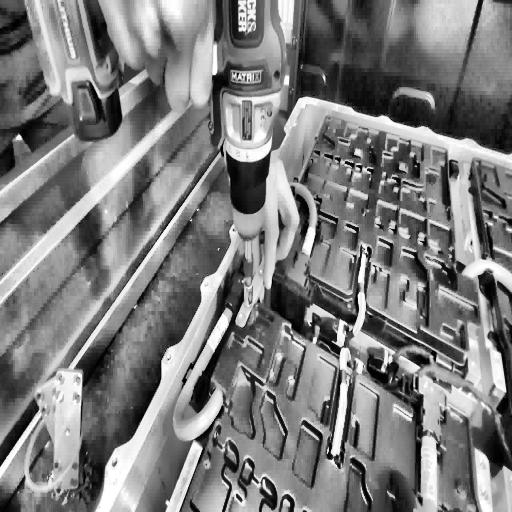high_volt_cable: (170, 302, 232, 446), (412, 375, 444, 512), (283, 175, 319, 278), (457, 248, 512, 313)
low_volt_cable: (309, 290, 512, 448), (328, 231, 370, 475)
